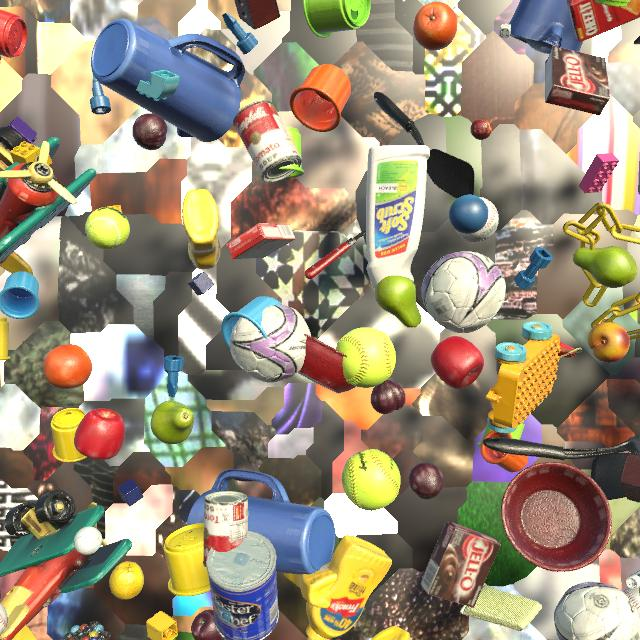ycb_002_master_chef_can: (206, 531, 279, 640)
ycb_003_cracker_box: (567, 0, 640, 42)
ycb_004_sugar_box: (224, 639, 225, 640)
ycb_005_tomato_soup_can: (233, 100, 302, 182), (203, 491, 248, 567)
ycb_006_mustard_bottle: (306, 535, 392, 640), (182, 189, 221, 269), (283, 553, 337, 608), (371, 626, 411, 640)
ycb_008_pudding_box: (421, 521, 501, 608), (545, 46, 610, 116)
ycb_009_gelatin_box: (227, 223, 295, 259)
ycb_012_strawberry: (0, 56, 1, 62)
ycb_013_apple: (431, 336, 484, 389), (74, 409, 125, 460)
ycb_014_lemon: (109, 561, 144, 600), (639, 588, 640, 595)
ycb_015_peach: (587, 322, 630, 363)
ycb_016_pear: (573, 246, 638, 288), (375, 275, 422, 328), (151, 401, 194, 444)
ycb_017_orange: (43, 344, 92, 389), (413, 2, 457, 51)
ycb_018_plum: (132, 113, 167, 150), (409, 462, 444, 499), (370, 380, 406, 414), (191, 610, 223, 640)
